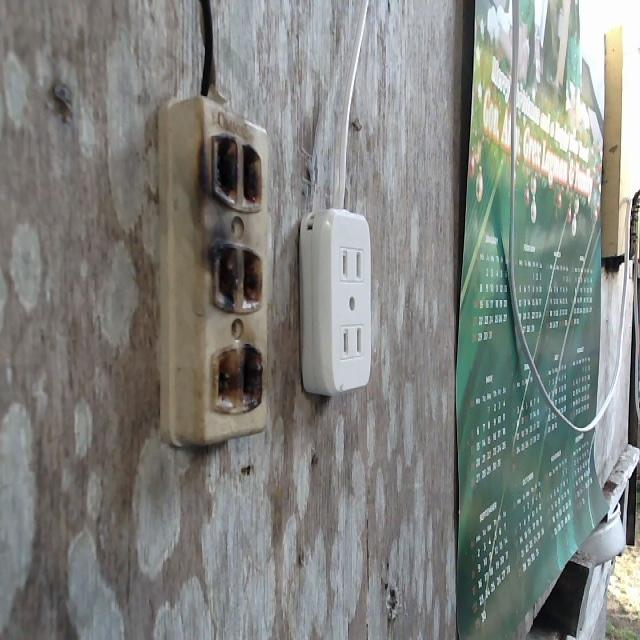-: (199, 121, 265, 422)
